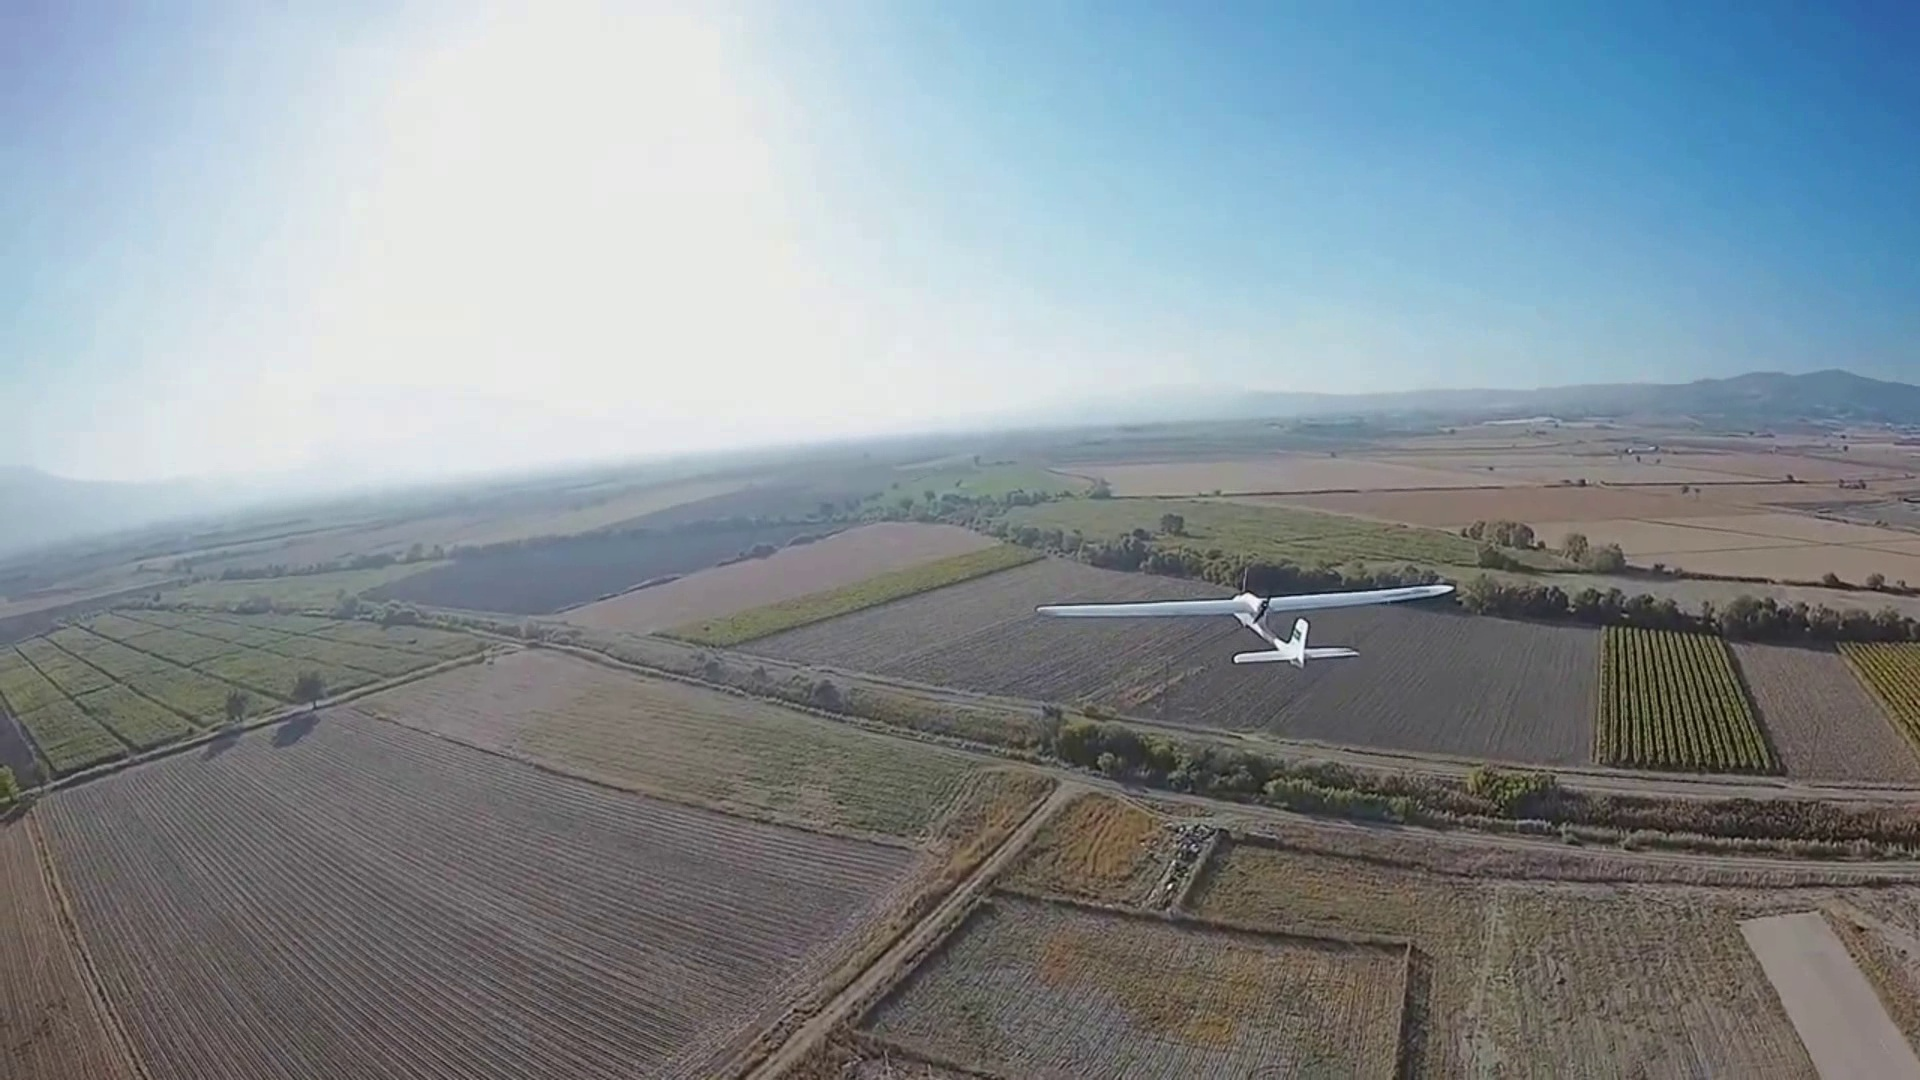airplane: (1031, 568, 1464, 666), (1230, 574, 1464, 663), (1230, 597, 1360, 667)
